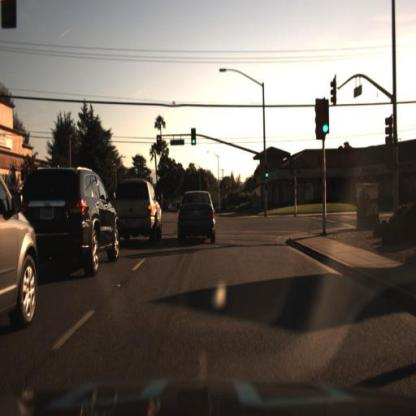car: (34, 156, 126, 286), (117, 166, 166, 253), (174, 185, 222, 254)
trafficLight-Green: (315, 97, 331, 141), (319, 112, 331, 141), (190, 126, 198, 149), (263, 165, 271, 184)
trafficLight-RedLeft: (155, 131, 163, 152)
